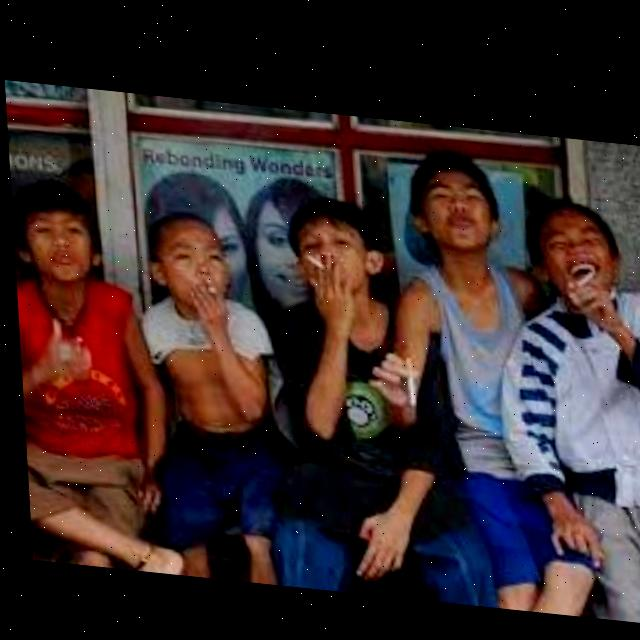cigarette: (402, 348, 412, 400), (572, 258, 591, 275), (305, 249, 322, 262), (204, 283, 213, 289)
